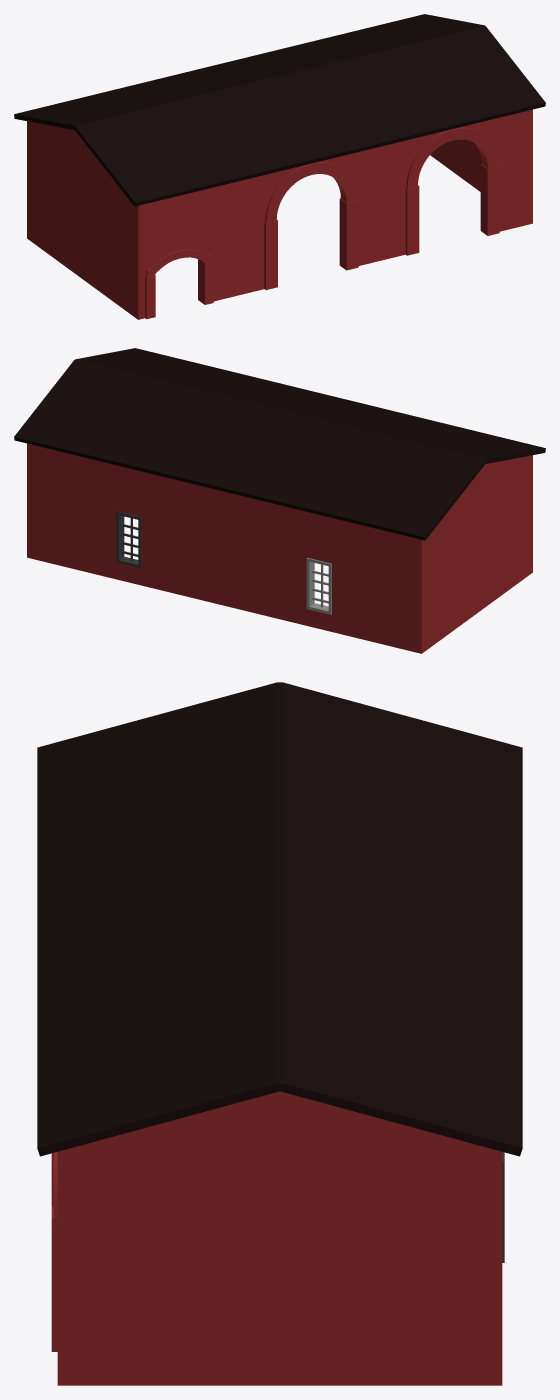
Rendered from Stall.FBX.
3 views of the same model, one above another, from view 1: azimuth 30°, elevation 25°; view 2: azimuth 150°, elevation 25°; view 3: azimuth 270°, elevation 25° (orthographic). The views are drawn at different scales.
Visible parts, largest first — view 1: Roof, Walls; view 2: Walls, Roof, Window_right_side, Window_left_side; view 3: Roof, Walls.
Part boxes in pixels (x1,y1,x2,y2): Roof: [14, 14, 545, 206]; Walls: [27, 109, 532, 319]; Walls: [27, 443, 532, 653]; Roof: [14, 348, 545, 540]; Window_right_side: [116, 511, 141, 568]; Window_left_side: [306, 557, 331, 614]; Roof: [37, 682, 522, 1156]; Walls: [51, 1091, 502, 1385].
Size of the model in its own units: 25.6 by 9.25 by 13.1.
